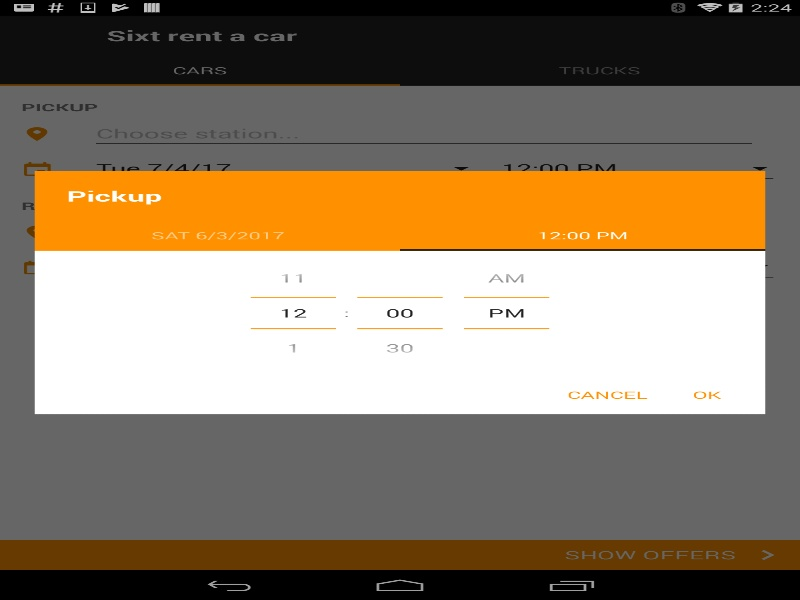Button: (551, 378, 664, 411), (250, 260, 336, 298), (463, 260, 549, 298), (250, 328, 336, 365), (357, 328, 442, 365), (664, 378, 749, 411)
Input: (250, 298, 336, 328), (463, 298, 549, 328), (357, 298, 442, 328)
